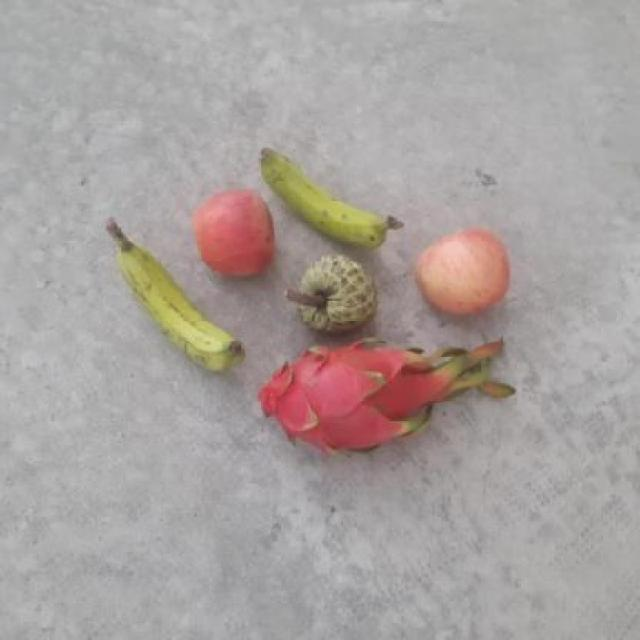apple: (413, 225, 516, 320), (188, 183, 280, 274)
banana: (109, 242, 246, 376), (253, 145, 402, 250)
dragon fruit: (257, 335, 445, 460)
sugar apple: (295, 248, 379, 337)
